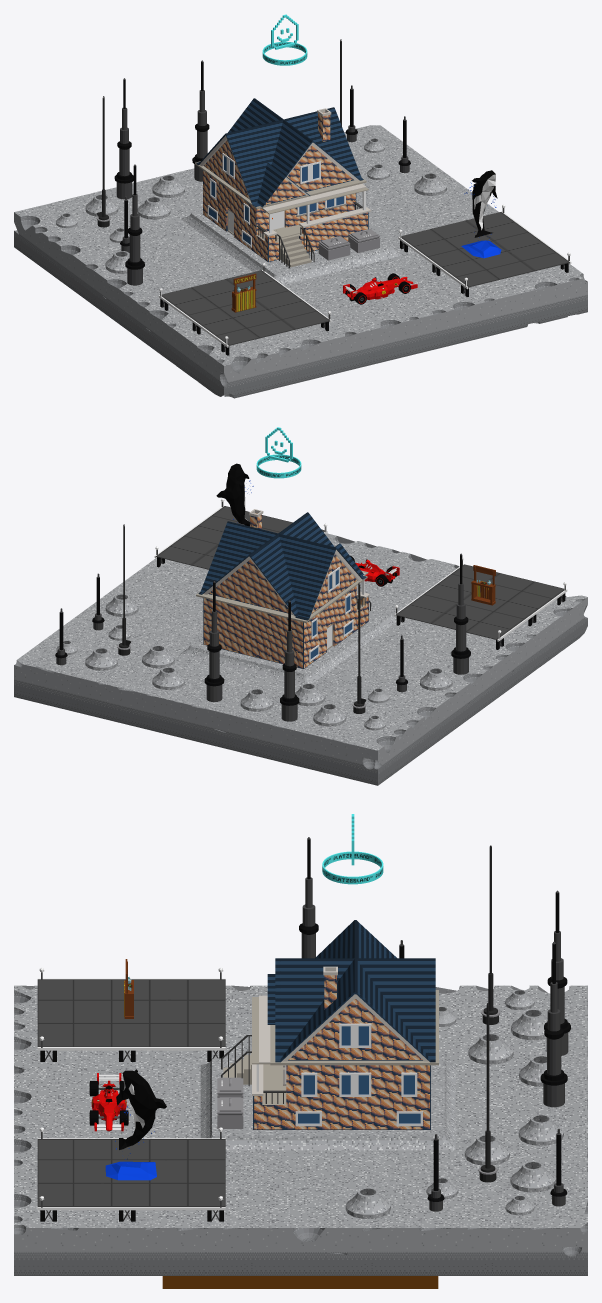
3 renders of one model, top to bottom at view 1: azimuth 30°, elevation 25°; view 2: azimuth 150°, elevation 25°; view 3: azimuth 270°, elevation 25°, orthographic. The views are drawn at different scales.
Parts seen in each view (by area): view 1: Cube.027, Cube.430, Cube.026, Cube.025, Cube.028, ANIMAL_ORCA, Cylinder.021, VEHICLES_FORMULA_1, Cylinder.020, Cylinder.017, TYPE_PREMIUM, OBJRANDOM_LEMONADE_STAND (+6 smaller); view 2: Cube.027, Cube.430, Cube.025, Cube.028, Cube.026, Cylinder.017, Cylinder.020, Cylinder.021, ANIMAL_ORCA, TYPE_PREMIUM, OBJRANDOM_LEMONADE_STAND, VEHICLES_FORMULA_1 (+9 smaller); view 3: Cube.027, Cube.430, Cube.025, Cube.026, Cube.028, UNDERGROUND_ART_PIECE_VAN_GOGH, ANIMAL_ORCA, Cylinder.017, VEHICLES_FORMULA_1, Cylinder.020, TYPE_PREMIUM, Cylinder.021 (+12 smaller).
Part boxes in pixels (bbox=[...]): Cube.027: bbox=[14, 125, 587, 398]; Cube.430: bbox=[195, 98, 371, 268]; Cube.026: bbox=[398, 204, 571, 296]; Cube.025: bbox=[158, 263, 331, 355]; Cube.028: bbox=[181, 210, 401, 284]; ANIMAL_ORCA: bbox=[461, 170, 501, 258]; Cylinder.021: bbox=[125, 164, 144, 285]; VEHICLES_FORMULA_1: bbox=[343, 273, 417, 304]; Cylinder.020: bbox=[114, 78, 133, 199]; Cylinder.017: bbox=[192, 60, 209, 181]; TYPE_PREMIUM: bbox=[262, 14, 307, 65]; OBJRANDOM_LEMONADE_STAND: bbox=[231, 273, 256, 312]; Cube.027: bbox=[14, 533, 587, 785]; Cube.430: bbox=[196, 509, 371, 668]; Cube.025: bbox=[394, 557, 567, 649]; Cube.028: bbox=[180, 607, 396, 684]; Cube.026: bbox=[154, 498, 327, 569]; Cylinder.017: bbox=[204, 581, 224, 702]; Cylinder.020: bbox=[280, 600, 299, 721]; Cylinder.021: bbox=[451, 553, 470, 674]; ANIMAL_ORCA: bbox=[216, 463, 253, 526]; TYPE_PREMIUM: bbox=[256, 427, 301, 478]; OBJRANDOM_LEMONADE_STAND: bbox=[471, 565, 495, 605]; VEHICLES_FORMULA_1: bbox=[350, 555, 399, 586]; Cube.027: bbox=[14, 985, 587, 1275]; Cube.430: bbox=[221, 920, 438, 1129]; Cube.025: bbox=[37, 967, 225, 1061]; Cube.026: bbox=[37, 1127, 225, 1221]; Cube.028: bbox=[200, 1058, 455, 1150]; UNDERGROUND_ART_PIECE_VAN_GOGH: bbox=[162, 1276, 438, 1288]; ANIMAL_ORCA: bbox=[105, 1069, 166, 1180]; Cylinder.017: bbox=[540, 941, 567, 1107]; VEHICLES_FORMULA_1: bbox=[89, 1073, 128, 1131]; Cylinder.020: bbox=[544, 890, 570, 1055]; TYPE_PREMIUM: bbox=[322, 814, 383, 884]; Cylinder.021: bbox=[299, 837, 318, 958].
Bounding box in the file's own units: 4000 × 2829 × 4000.
42 materials, 7 textured.
